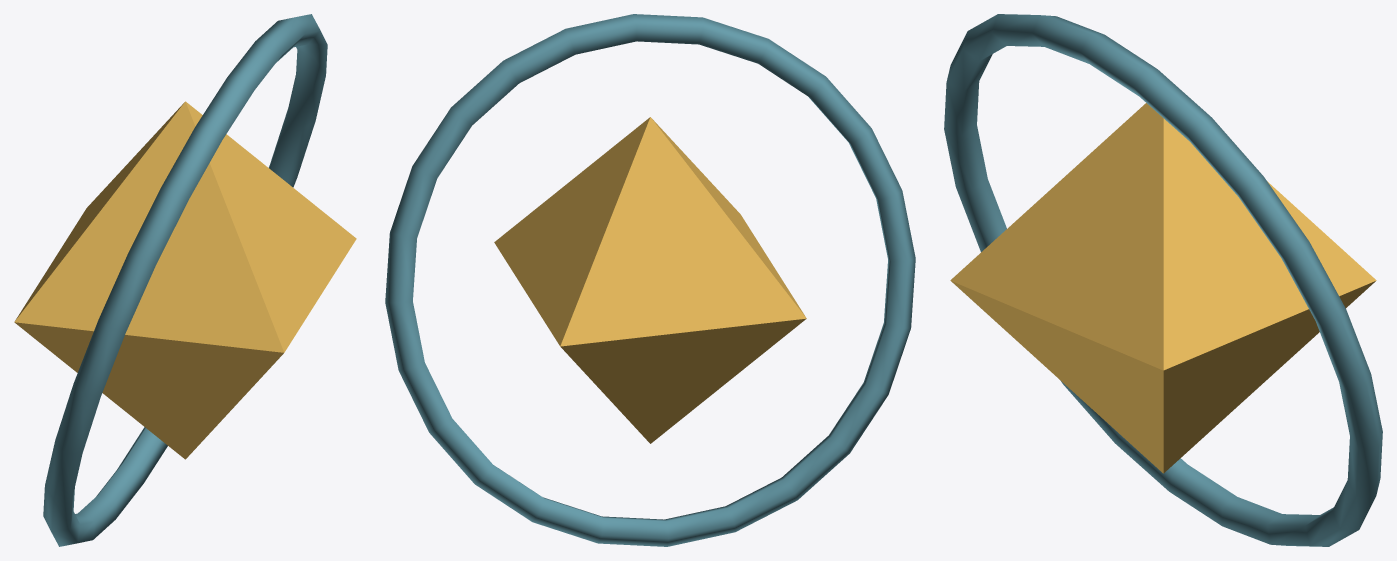
File: treasure-observatory.glb
The picture shows the model from 3 angles, left to right: view 1: azimuth 30°, elevation 25°; view 2: azimuth 150°, elevation 25°; view 3: azimuth 270°, elevation 25°; orthographic projection. The views are drawn at different scales.
Visible parts, largest first — view 1: collectible-observatory; view 2: collectible-observatory; view 3: collectible-observatory.
Boxes of the visible parts, <box> form: collectible-observatory: <box>14,14,356,546</box>; collectible-observatory: <box>385,14,915,546</box>; collectible-observatory: <box>944,14,1382,546</box>.
Bounding box in the file's own units: 0.5231 × 0.6236 × 0.4527.
